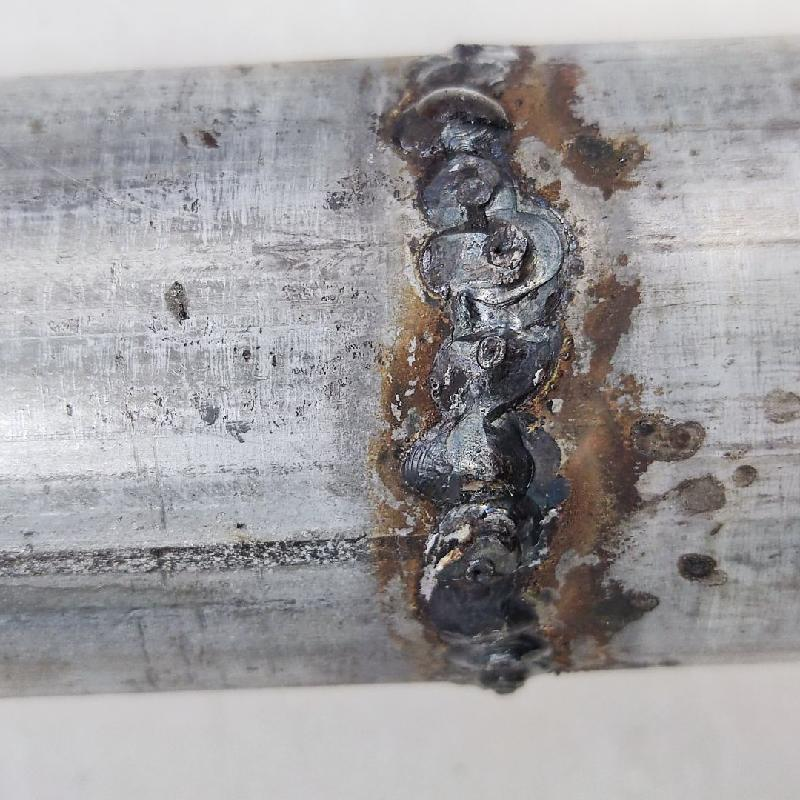Surface_pores: (479, 225, 530, 269), (476, 335, 512, 372), (463, 554, 498, 589)
Weld: (370, 87, 522, 160)
